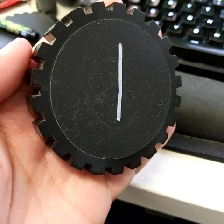gear: (24, 1, 185, 175)
